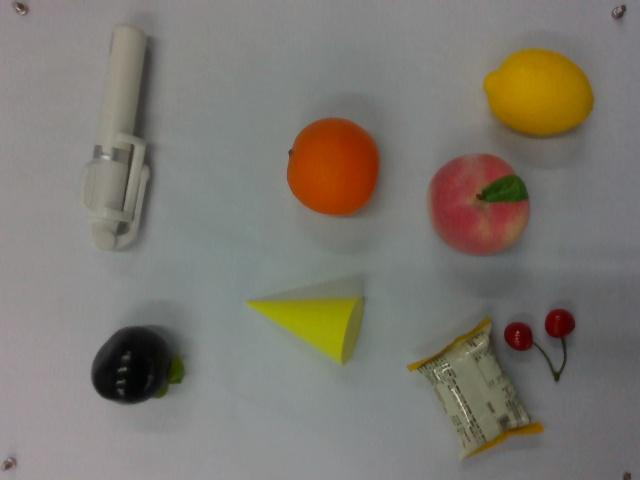cherry: (504, 305, 581, 383)
cone: (242, 295, 365, 369)
dessert: (410, 320, 541, 459)
lemon: (486, 48, 597, 135)
mangosteen: (93, 323, 185, 406)
orange: (285, 115, 381, 220)
peach: (428, 149, 531, 257)
selfiestick: (80, 22, 154, 251)
